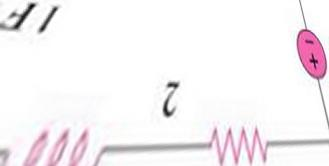resistor: (196, 122, 272, 164)
